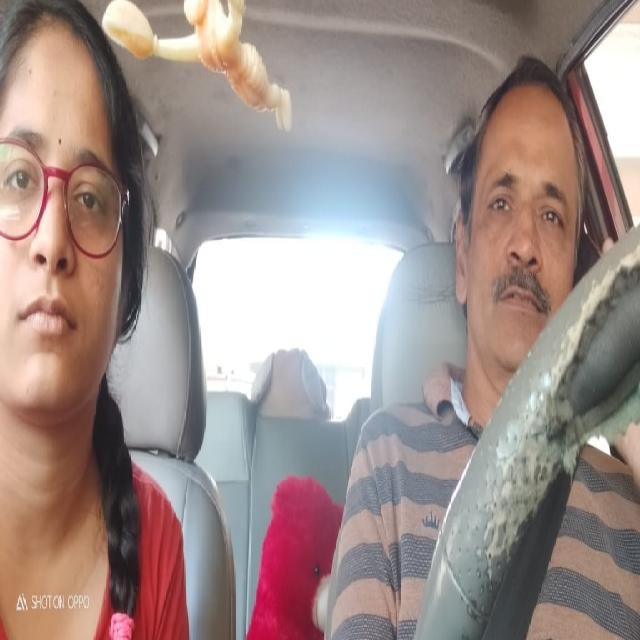person: (0, 0, 150, 442), (452, 43, 584, 376)
